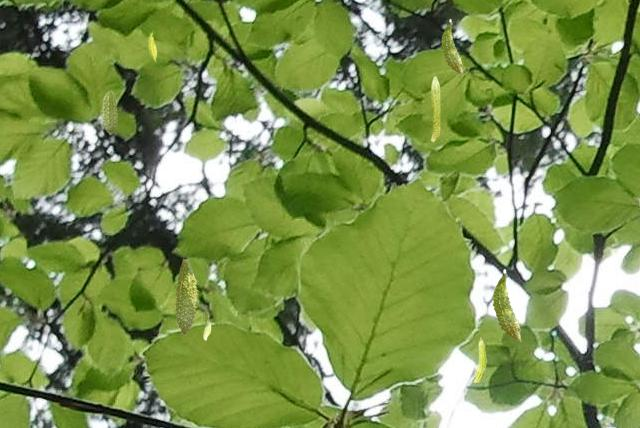ampalaya: (491, 268, 521, 341), (173, 258, 198, 335), (440, 18, 463, 74), (101, 89, 118, 135), (430, 76, 441, 142), (473, 337, 487, 383), (147, 29, 157, 63), (203, 308, 211, 341)
